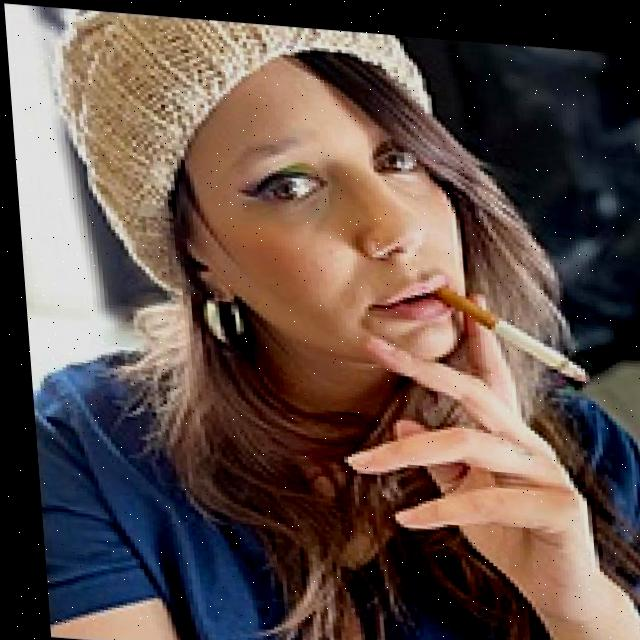cigarette: (432, 276, 585, 375)
